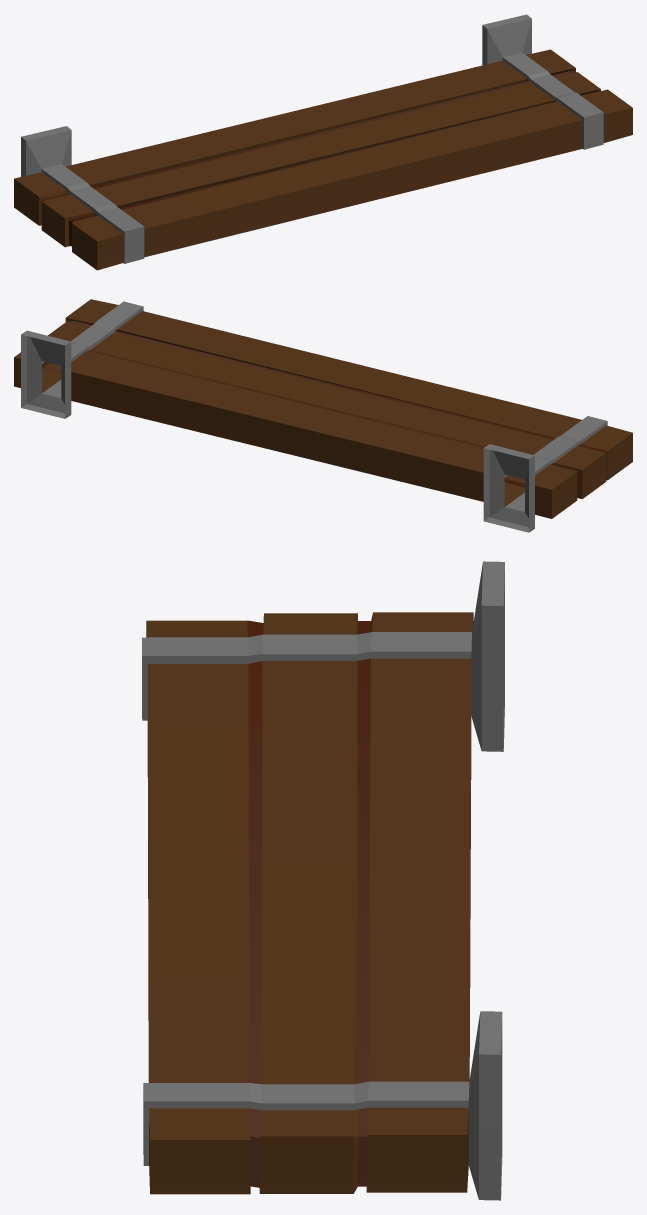
The model's file is Jail_bench.fbx.
3 renders of one model, top to bottom at view 1: azimuth 30°, elevation 25°; view 2: azimuth 150°, elevation 25°; view 3: azimuth 270°, elevation 25°, orthographic. The views are drawn at different scales.
Visible parts, largest first — view 1: Jail_bench; view 2: Jail_bench; view 3: Jail_bench.
Boxes of the visible parts, x1,y1,x2,y2 form: Jail_bench: (14,14,632,270); Jail_bench: (14,299,632,532); Jail_bench: (142,561,504,1200).
Bounding box in the file's own units: 190 × 24.6 × 55.5.
